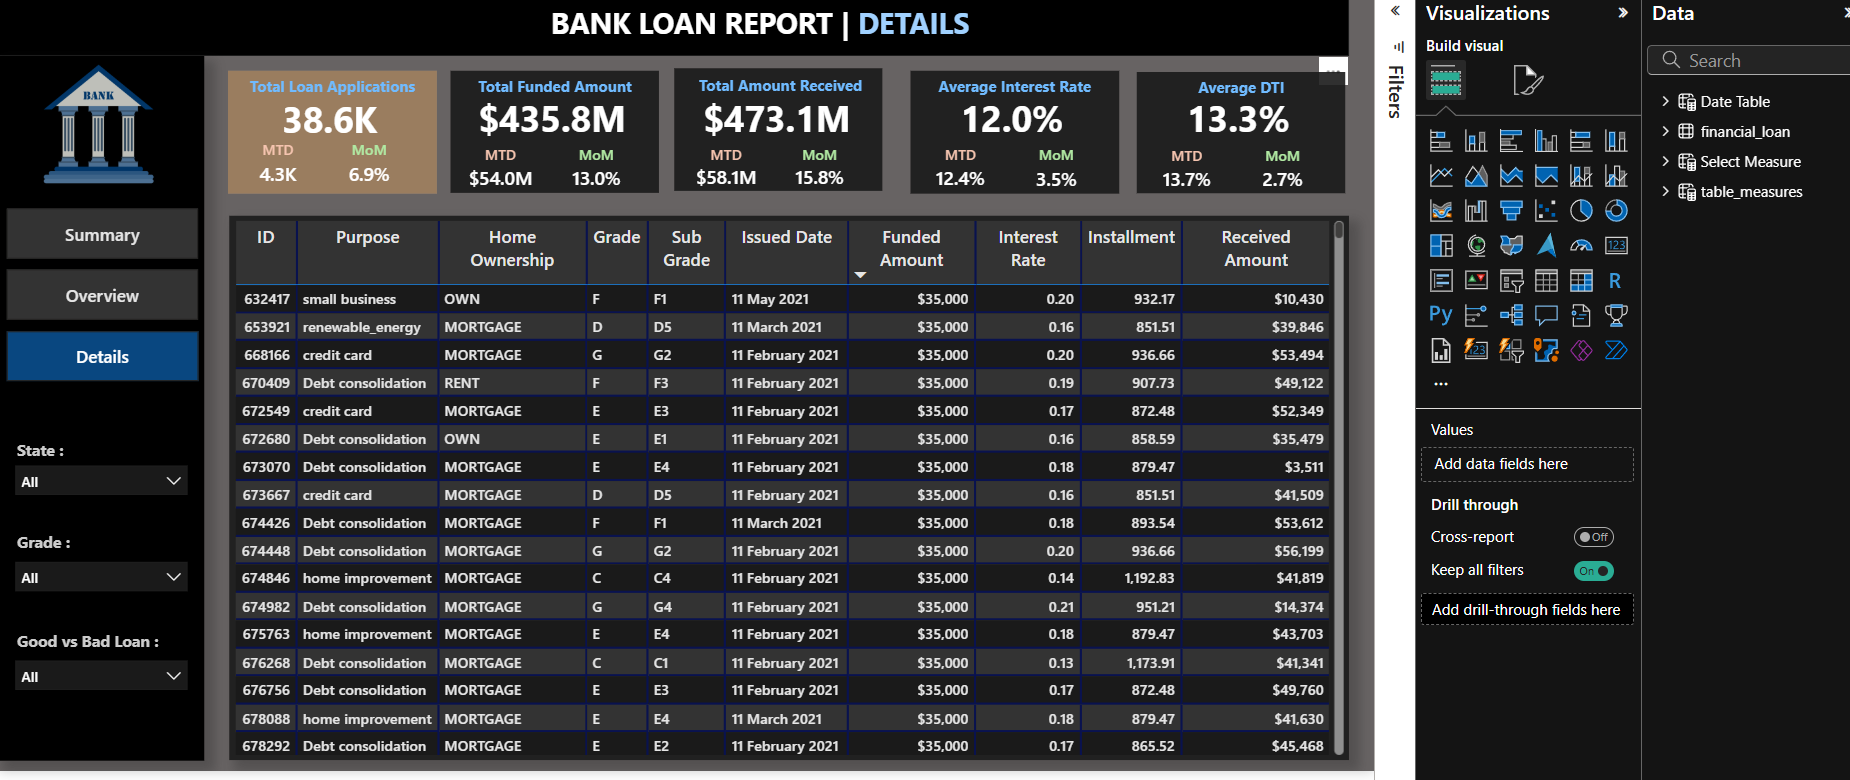

What the dashboard file says about the page in this screenshot:
{"tool":"powerbi","page":{"name":"Details","canvas":[1280,720],"ordinal":2},"visuals":[{"type":"shape","box":[629.2,66.4,193.8,114.2],"z":0,"group":"g3"},{"type":"shape","box":[214.3,68.6,194.3,114.3],"z":0,"group":"g1"},{"type":"shape","box":[421.4,68.6,194.5,114],"z":0,"group":"g2"},{"type":"shape","box":[848.8,68.6,194.2,114.3],"z":0,"group":"g4"},{"type":"shape","box":[1059.3,69.8,194.5,113.1],"z":0,"group":"g5"},{"type":"shape","box":[214.7,203.7,1041.9,506.5],"z":0},{"type":"shape","box":[0,0,1257,54.7],"z":1000},{"type":"card","fields":{"Values":["table_measures.total_loan_appl"]},"box":[247.2,83.2,124.3,61.3],"z":1000,"group":"g1"},{"type":"card","fields":{"Values":["table_measures.total_funded_amt"]},"box":[433.2,83.2,165.9,58.4],"z":1000,"group":"g2"},{"type":"card","fields":{"Values":["table_measures.avg_interest_rate"]},"box":[860.6,83.2,165.6,58.6],"z":1000,"group":"g4"},{"type":"card","fields":{"Values":["table_measures.avg_DTI"]},"box":[1071.1,84.3,165.9,57.9],"z":1000,"group":"g5"},{"type":"card","fields":{"Values":["table_measures.total_received_amt"]},"box":[643.2,85.3,163.1,55.8],"z":1000,"group":"g3"},{"type":"shape","box":[0,54.7,191.9,655.8],"z":2000},{"type":"textbox","box":[632.2,67,191,41.6],"z":2000,"group":"g3"},{"type":"textbox","box":[214.3,68.6,194.3,39],"z":2000,"group":"g1"},{"type":"textbox","box":[421.4,68.6,194.5,38.9],"z":2000,"group":"g2"},{"type":"textbox","box":[848.8,68.6,194.2,39],"z":2000,"group":"g4"},{"type":"textbox","box":[1059.3,69.8,194.5,38.6],"z":2000,"group":"g5"},{"type":"card","title":"MTD","fields":{"Values":["table_measures.MTD_loan_appl"]},"box":[235.7,132.7,51.4,50.2],"z":3000,"group":"g1"},{"type":"card","title":"MTD","fields":{"Values":["table_measures.MTD_received_amt"]},"box":[643.2,137.1,68.9,46.5],"z":3000,"group":"g3"},{"type":"card","title":"MTD","fields":{"Values":["table_measures.MTD_funded_amt"]},"box":[433.2,137.4,70.1,48.6],"z":3000,"group":"g2"},{"type":"card","title":"MTD","fields":{"Values":["table_measures.MTD_interest_rate"]},"box":[860.6,137.6,70,48.8],"z":3000,"group":"g4"},{"type":"card","title":"MTD","fields":{"Values":["table_measures.MTD_avg_DTI"]},"box":[1071.1,138.1,70.1,48.3],"z":3000,"group":"g5"},{"type":"textbox","box":[12.4,406,119.7,38.5],"z":3000},{"type":"textbox","box":[509.2,1.4,447.3,49.5],"z":4000},{"type":"card","title":"MoM","fields":{"Values":["table_measures.MOM_loan_appl"]},"box":[320,132.7,51.4,50.2],"z":4000,"group":"g1"},{"type":"card","title":"MoM","fields":{"Values":["table_measures.MOM_received_amt"]},"box":[736.7,136.9,56.8,47.5],"z":4000,"group":"g3"},{"type":"card","title":"MoM","fields":{"Values":["table_measures.MOM_funded_amt"]},"box":[528.3,137.2,57.8,49.7],"z":4000,"group":"g2"},{"type":"card","title":"MoM","fields":{"Values":["table_measures.MOM_interest_rate"]},"box":[955.6,137.4,57.7,49.8],"z":4000,"group":"g4"},{"type":"card","title":"MoM","fields":{"Values":["table_measures.MOM_avg_DTI"]},"box":[1166.2,137.9,57.8,49.3],"z":4000,"group":"g5"},{"type":"group","id":"g1","title":"Group 1","box":[214.3,68.6,194.3,114.3],"z":5000},{"type":"group","id":"g2","title":"Group 1","box":[421.4,68.6,194.3,118],"z":6000},{"type":"group","id":"g3","title":"Group 1","box":[629.2,66.4,194,118],"z":7000},{"type":"group","id":"g4","title":"Group 1","box":[848.8,68.6,194.2,118.6],"z":8000},{"type":"group","id":"g5","title":"Group 1","box":[1059.3,69.8,194.2,117.4],"z":9000},{"type":"slicer","fields":{"Values":["financial_loan.address_state"]},"box":[5.5,425.3,180.3,50.9],"z":10000},{"type":"slicer","fields":{"Values":["financial_loan.grade"]},"box":[5.5,514.8,180.3,50.9],"z":11000},{"type":"textbox","box":[12.4,491.4,119.7,38.5],"z":12000},{"type":"slicer","fields":{"Values":["financial_loan.Good vs Band Loan"]},"box":[5.5,607,180.3,50.9],"z":13000},{"type":"textbox","box":[12.4,583.6,163.8,38.5],"z":14000},{"type":"tableEx","fields":{"Values":["financial_loan.id","financial_loan.purpose","financial_loan.home_ownership","financial_loan.grade","financial_loan.sub_grade","financial_loan.issue_date","table_measures.total_funded_amt","Sum(financial_loan.int_rate)","Sum(financial_loan.installment)","table_measures.total_received_amt"]},"box":[214.7,203.7,1041.9,506.5],"z":15000},{"type":"pageNavigator","box":[8.3,196.8,178.9,163.8],"z":16000},{"type":"image","box":[0,39.3,187.7,157.1],"z":17000}]}

Visuals, with their boxes on the page's 1280x720 design canvas (x1, y1, x2, y2). These are canvas units, not pixel positions in the 1850x780 screenshot, which may show the page scaled, cropped or inside an application window:
shape: <box>629,66,823,181</box>
shape: <box>214,69,409,183</box>
shape: <box>421,69,616,183</box>
shape: <box>849,69,1043,183</box>
shape: <box>1059,70,1254,183</box>
shape: <box>215,204,1257,710</box>
shape: <box>0,0,1257,55</box>
card - table_measures.total_loan_appl: <box>247,83,372,144</box>
card - table_measures.total_funded_amt: <box>433,83,599,142</box>
card - table_measures.avg_interest_rate: <box>861,83,1026,142</box>
card - table_measures.avg_DTI: <box>1071,84,1237,142</box>
card - table_measures.total_received_amt: <box>643,85,806,141</box>
shape: <box>0,55,192,710</box>
textbox: <box>632,67,823,109</box>
textbox: <box>214,69,409,108</box>
textbox: <box>421,69,616,108</box>
textbox: <box>849,69,1043,108</box>
textbox: <box>1059,70,1254,108</box>
"MTD" card: <box>236,133,287,183</box>
"MTD" card: <box>643,137,712,184</box>
"MTD" card: <box>433,137,503,186</box>
"MTD" card: <box>861,138,931,186</box>
"MTD" card: <box>1071,138,1141,186</box>
textbox: <box>12,406,132,444</box>
textbox: <box>509,1,956,51</box>
"MoM" card: <box>320,133,371,183</box>
"MoM" card: <box>737,137,794,184</box>
"MoM" card: <box>528,137,586,187</box>
"MoM" card: <box>956,137,1013,187</box>
"MoM" card: <box>1166,138,1224,187</box>
"Group 1" group: <box>214,69,409,183</box>
"Group 1" group: <box>421,69,616,187</box>
"Group 1" group: <box>629,66,823,184</box>
"Group 1" group: <box>849,69,1043,187</box>
"Group 1" group: <box>1059,70,1254,187</box>
slicer - financial_loan.address_state: <box>6,425,186,476</box>
slicer - financial_loan.grade: <box>6,515,186,566</box>
textbox: <box>12,491,132,530</box>
slicer - financial_loan.Good vs Band Loan: <box>6,607,186,658</box>
textbox: <box>12,584,176,622</box>
tableEx - financial_loan.id x financial_loan.purpose: <box>215,204,1257,710</box>
pageNavigator: <box>8,197,187,361</box>
image: <box>0,39,188,196</box>
